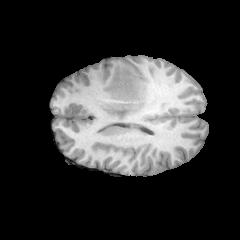glioma: (103, 66, 151, 116)
